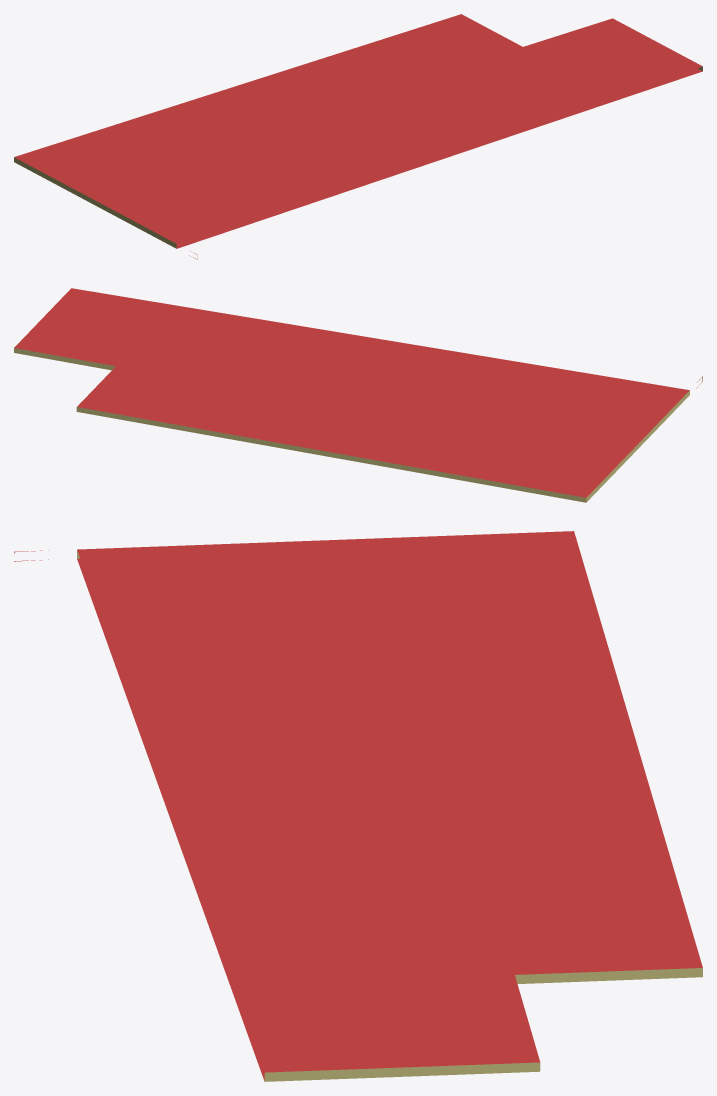
The picture shows the model from 3 angles, top to bottom: view 1: azimuth 30°, elevation 25°; view 2: azimuth 150°, elevation 25°; view 3: azimuth 270°, elevation 25°; orthographic projection. The views are drawn at different scales.
Bounding box in the file's own units: 12.64 × 6.71 × 0.194.
